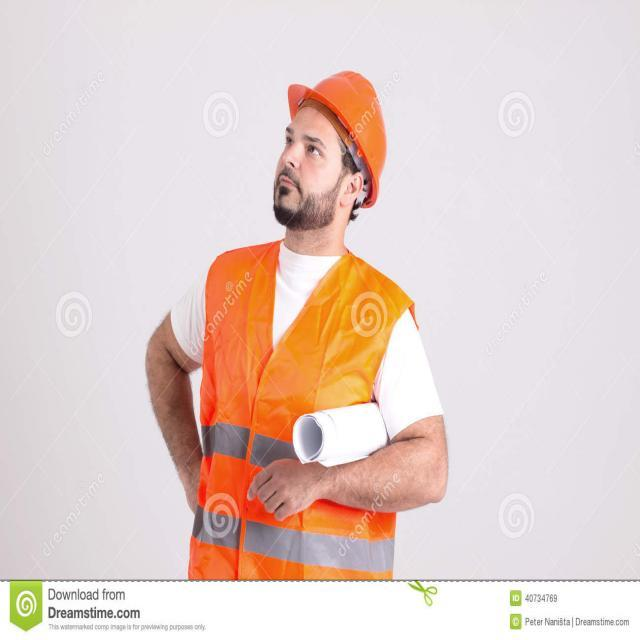safetyhelmet: (265, 54, 391, 240)
